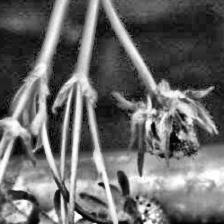Gray Mold: (125, 70, 220, 177)
